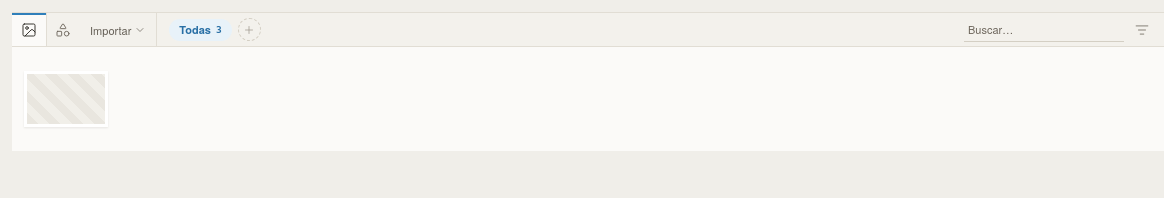
Test: hydrates authoritative per-tab settings and publishes only the changed field
Click the button named "Filtro, ordem e tamanho" at point(1142, 30), box [1128, 16, 1156, 44]
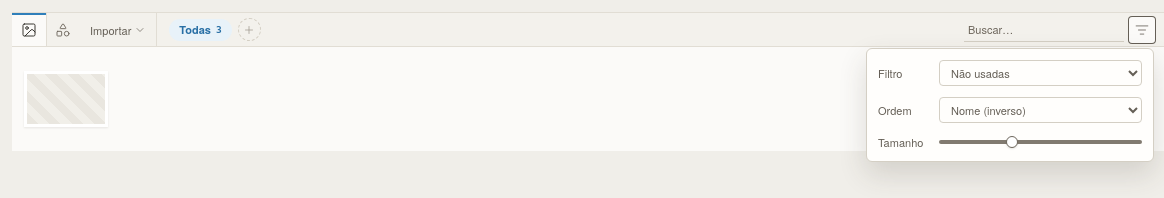
Now the dropdown named "Ordenar por" shows "Nome (inverso)", box [939, 97, 1142, 123]
Now the dropdown named "Filtro de uso" shows "Não usadas"
Select "Usadas" in the dropdown named "Filtro de uso" at point(1040, 73), box [939, 60, 1142, 86]
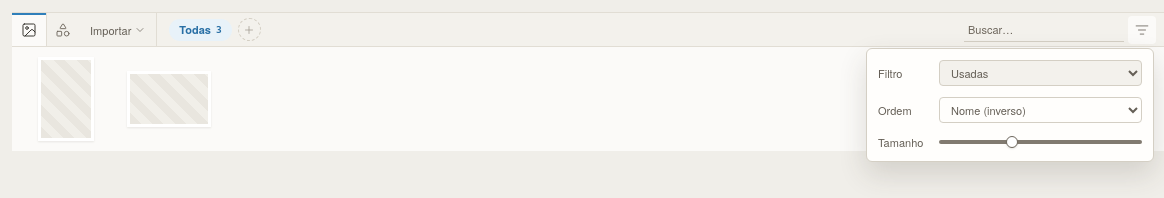
Select "Nome" in the dropdown named "Ordenar por" at point(1040, 110), box [939, 97, 1142, 123]
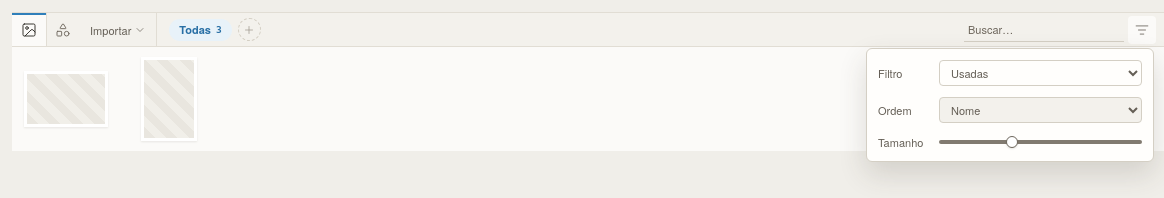
Click the button named "Decorativos" at point(63, 30), box [46, 13, 80, 46]
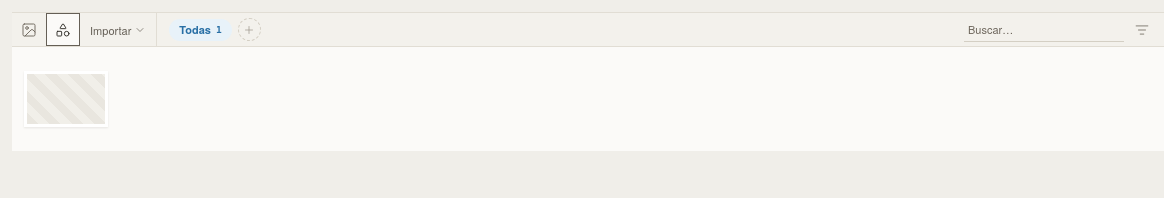
Click the button named "Filtro, ordem e tamanho" at point(1142, 30), box [1128, 16, 1156, 44]
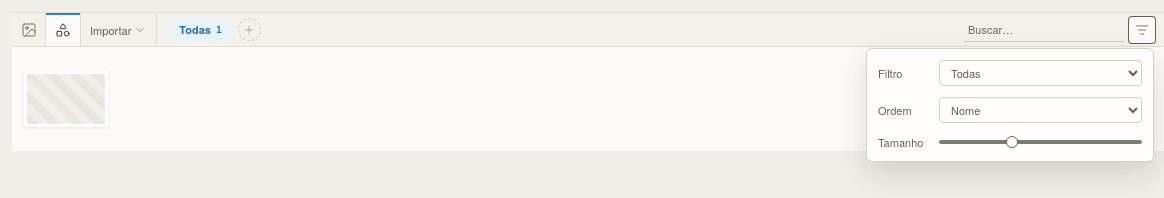
Now the dropdown named "Ordenar por" shows "Nome", box [939, 97, 1142, 123]
Now the dropdown named "Filtro de uso" shows "Todas", box [939, 60, 1142, 86]
